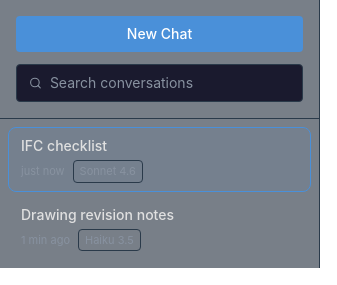
Scenario: ConversationList › filters conversations by search query
In the search field with placeholder "Search conversations": (170, 83) [50,73,290,93], type "revision"
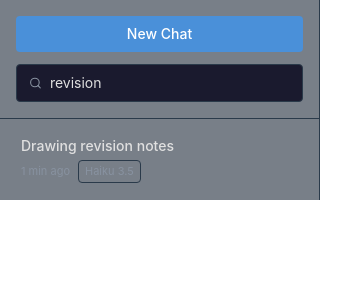
expect the text "Drawing revision notes" is shown: met, box [21,137,174,154]
expect the button "IFC checklist" is gone: met
